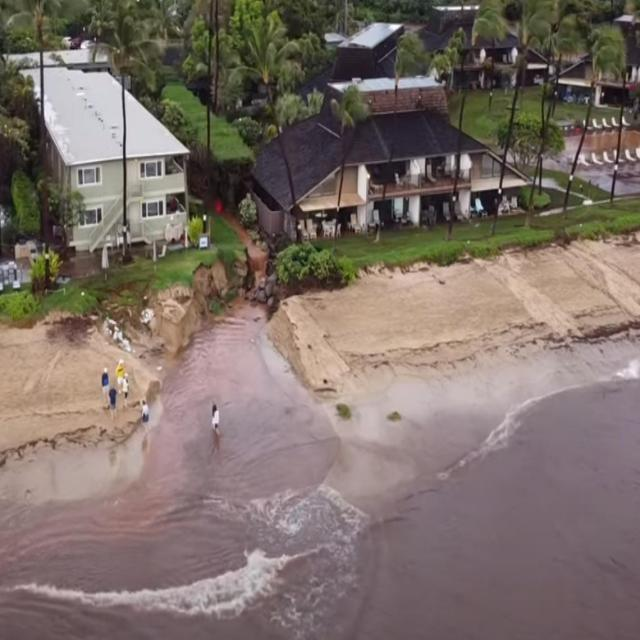flood: (0, 318, 640, 639), (577, 132, 618, 190), (546, 136, 580, 173), (616, 145, 640, 194), (624, 130, 640, 145)
house: (31, 54, 200, 266), (339, 87, 486, 233), (251, 95, 364, 255), (334, 20, 404, 82)
